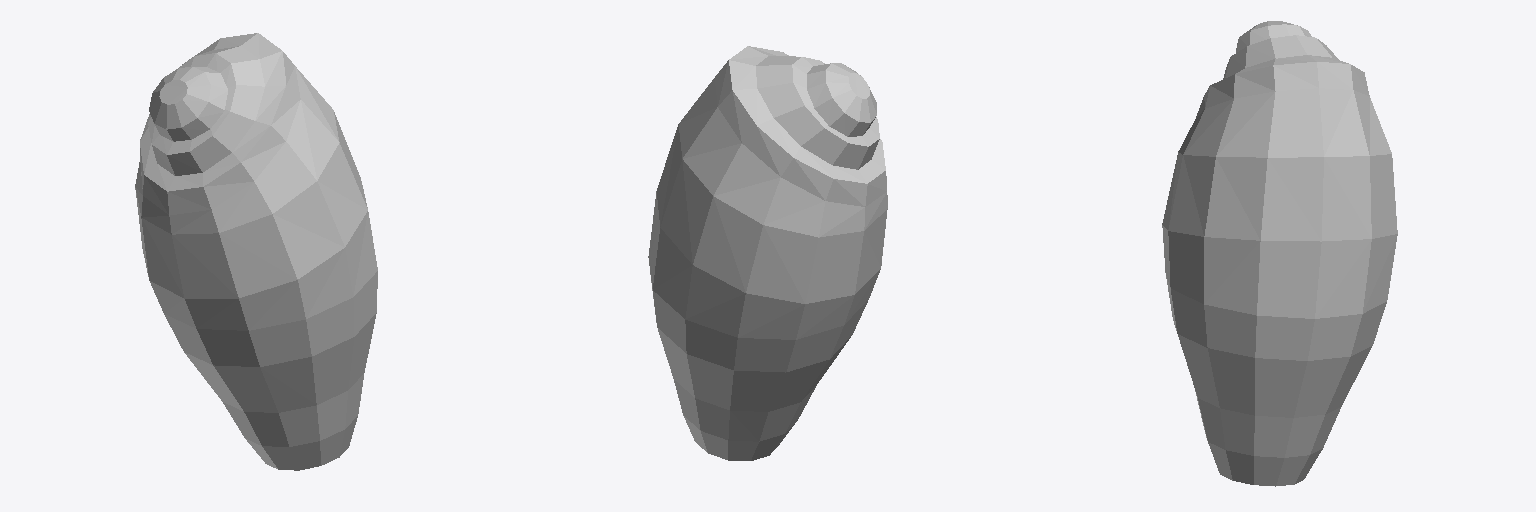
The model's file is BlueRoboRightHand.obj.
The picture shows the model from 3 angles: view 1: azimuth 30°, elevation 25°; view 2: azimuth 150°, elevation 25°; view 3: azimuth 270°, elevation 25°; orthographic projection.
Visible parts, largest first — view 1: polySurface3 BlueRobo1:Mesh; view 2: polySurface3 BlueRobo1:Mesh; view 3: polySurface3 BlueRobo1:Mesh.
Boxes of the visible parts, <box> form: polySurface3 BlueRobo1:Mesh: <box>135,33,377,470</box>; polySurface3 BlueRobo1:Mesh: <box>648,46,887,460</box>; polySurface3 BlueRobo1:Mesh: <box>1162,21,1397,486</box>.
Bounding box in the file's own units: 1.67 × 3.09 × 1.61.